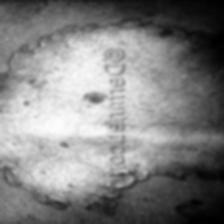Unclassified: (164, 199, 224, 224), (34, 186, 72, 224), (78, 84, 100, 107)
